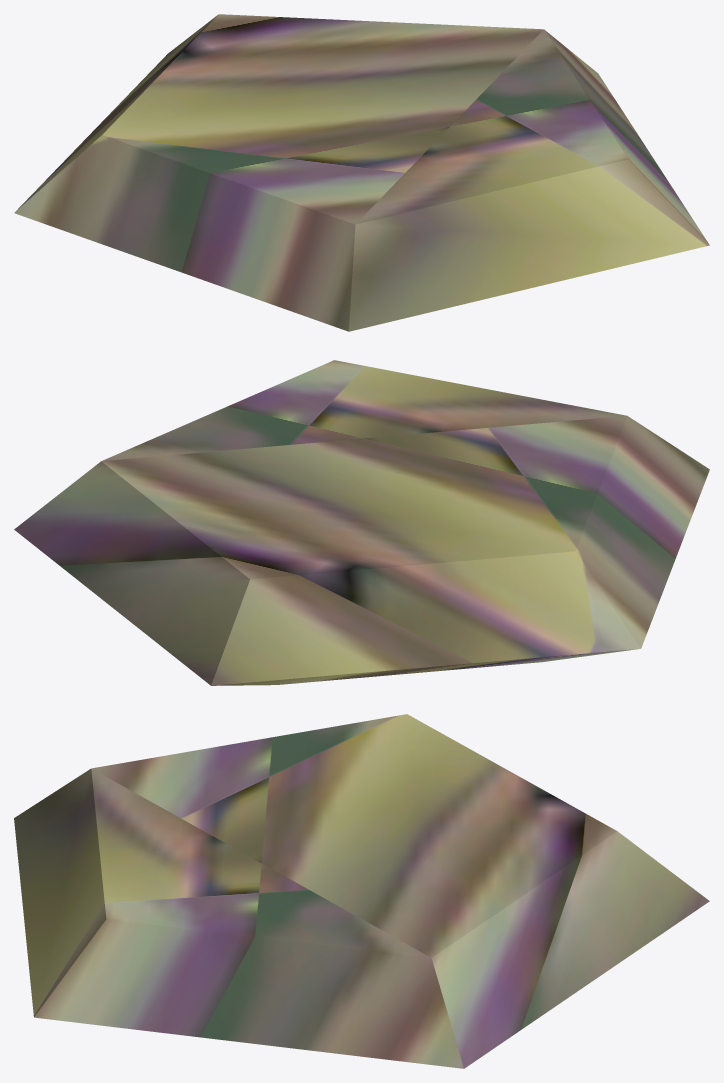
Rendered from PlateTree_1_Plate_9.gltf.
3 views of the same model, one above another, from view 1: azimuth 30°, elevation 25°; view 2: azimuth 150°, elevation 25°; view 3: azimuth 270°, elevation 25° (orthographic). The views are drawn at different scales.
Visible parts, largest first — view 1: PlateTree_1_Plate_9; view 2: PlateTree_1_Plate_9; view 3: PlateTree_1_Plate_9.
Boxes of the visible parts, x1=… form: PlateTree_1_Plate_9: x1=14, y1=14, x2=709, y2=331; PlateTree_1_Plate_9: x1=14, y1=360, x2=709, y2=685; PlateTree_1_Plate_9: x1=14, y1=714, x2=709, y2=1068.
Size of the model in its own units: 1.14 by 0.2429 by 1.1.
Materials: 1 (1 with a texture image).
